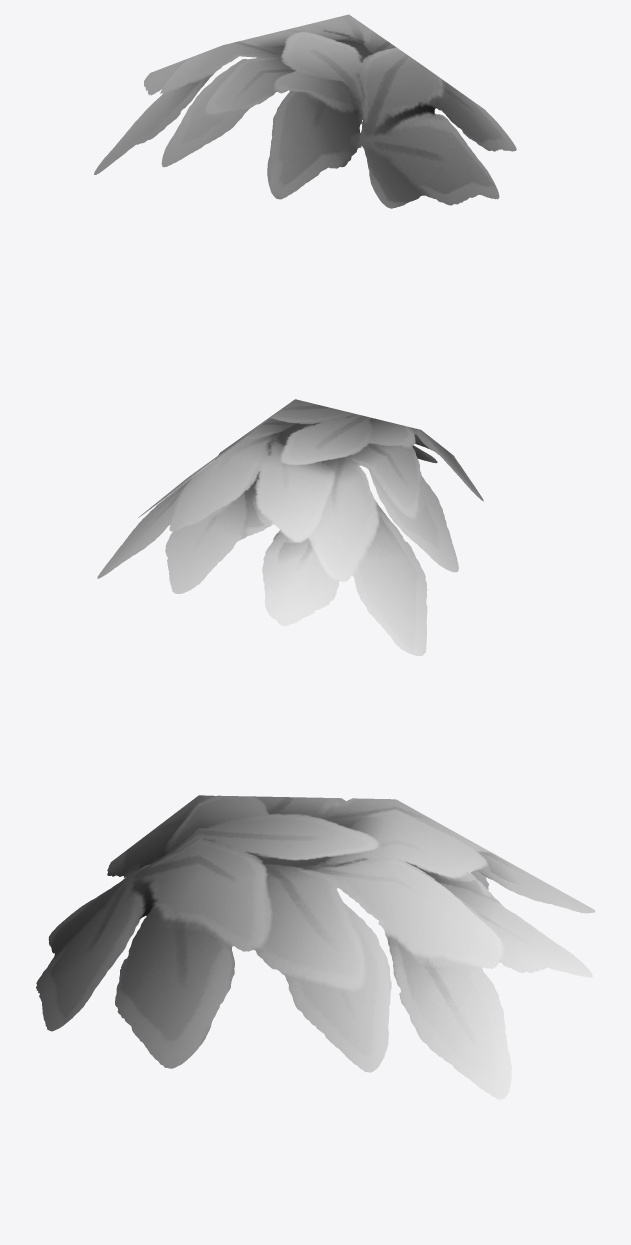
File: leaves.fbx
3 renders of one model, top to bottom at view 1: azimuth 30°, elevation 25°; view 2: azimuth 150°, elevation 25°; view 3: azimuth 270°, elevation 25°, orthographic. The views are drawn at different scales.
Parts seen in each view (by area): view 1: pPlane1; view 2: pPlane1; view 3: pPlane1.
Boxes of the visible parts, left/top/right/bottom form: pPlane1: left=94, top=14, right=516, bottom=208; pPlane1: left=97, top=399, right=483, bottom=655; pPlane1: left=36, top=795, right=595, bottom=1099.
Bounding box in the file's own units: 867 × 421 × 867.
